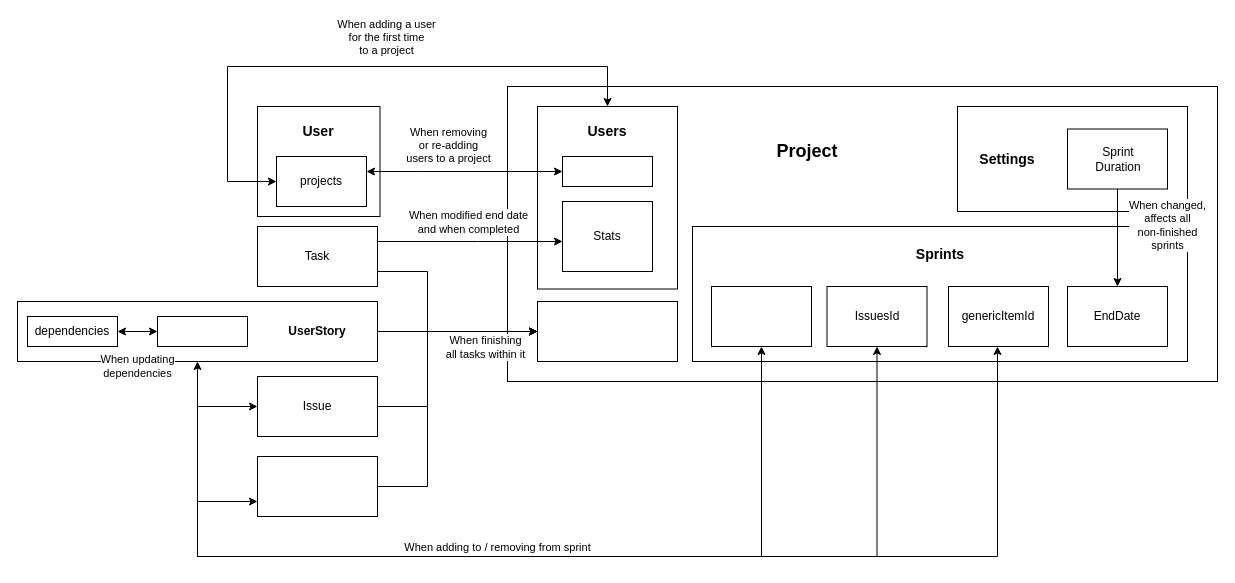
This 1235x583 diagram has some shape labels left out. The shapes that lost their labels are listed below. From the top down, each one's centre as x and y in pixels, then its label:
At point 607,171: "active".
At point 202,331: "requiredBy".
At point 607,331: "Activities".
At point 761,316: "userStoriesId".
At point 317,486: "Backlog Item".
